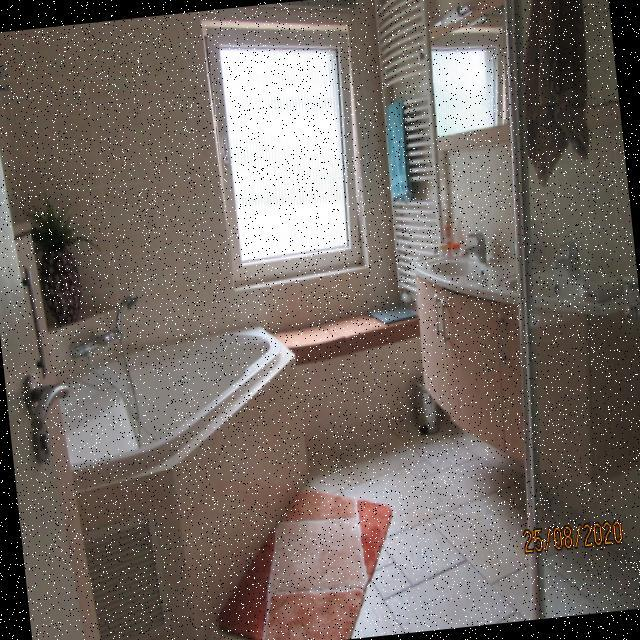bath: (23, 319, 328, 640)
designradiator: (364, 0, 462, 311)
douche: (460, 0, 640, 620)
wastafel: (411, 251, 640, 494), (407, 224, 640, 338)
